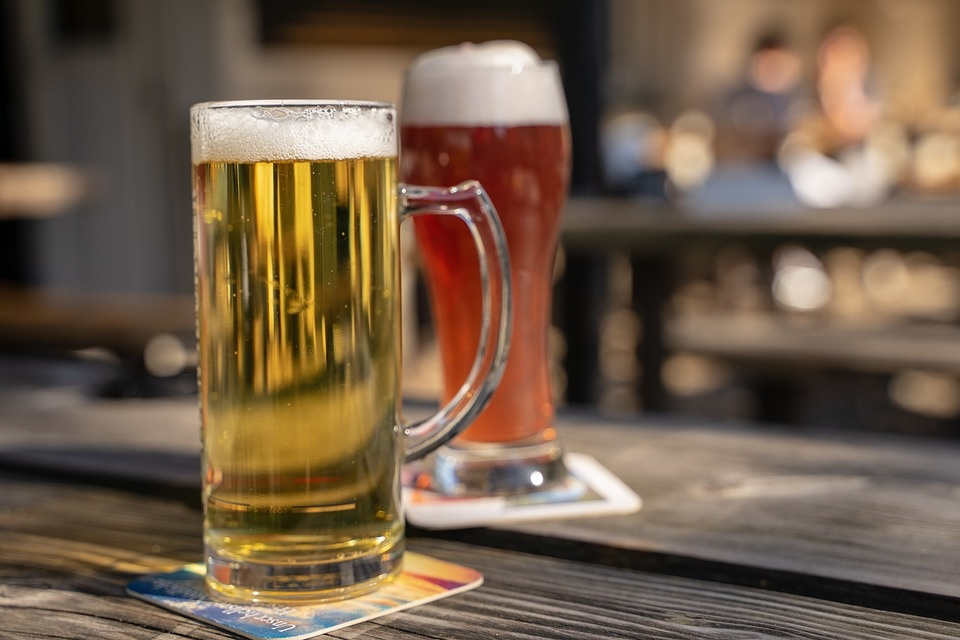glassBeer: (211, 92, 410, 587)
